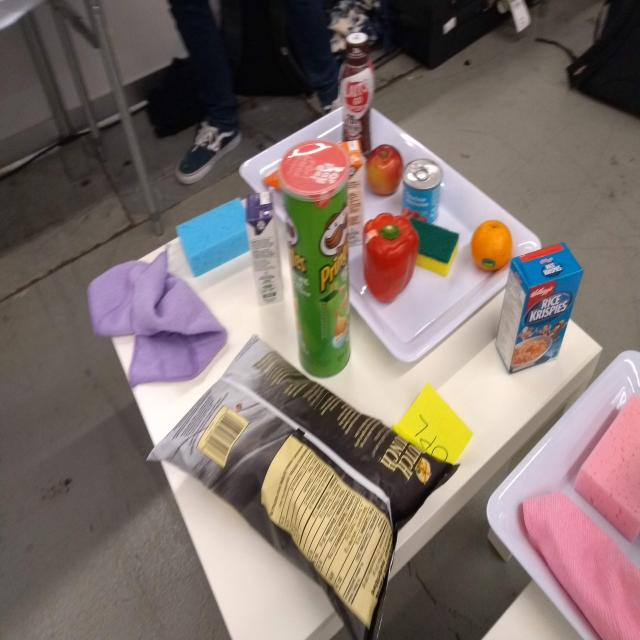apple: (365, 142, 405, 200)
cereal: (493, 237, 587, 377)
chocolate_drink: (337, 33, 374, 147)
cloth_opl: (84, 243, 229, 399)
grape_juice: (244, 189, 288, 309)
orange: (470, 217, 515, 275)
paprika: (360, 211, 419, 308)
potato_chips: (141, 330, 461, 640)
sausages: (401, 154, 443, 222)
sponge_opl: (174, 195, 251, 280)
